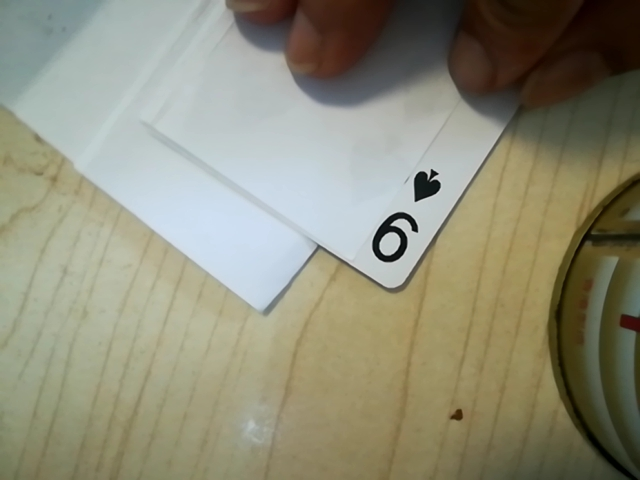ht 9: (354, 153, 458, 281)
